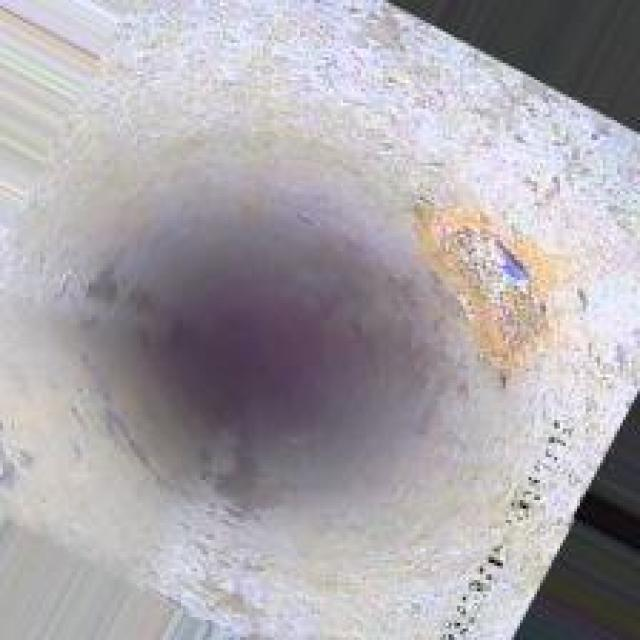ferrule: (414, 203, 557, 357)
